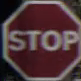Stop: (6, 14, 80, 67)
